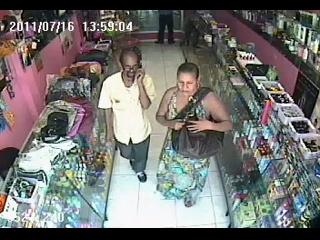Normal: (154, 62, 232, 207), (98, 46, 156, 183), (154, 10, 176, 44), (76, 50, 110, 66)
